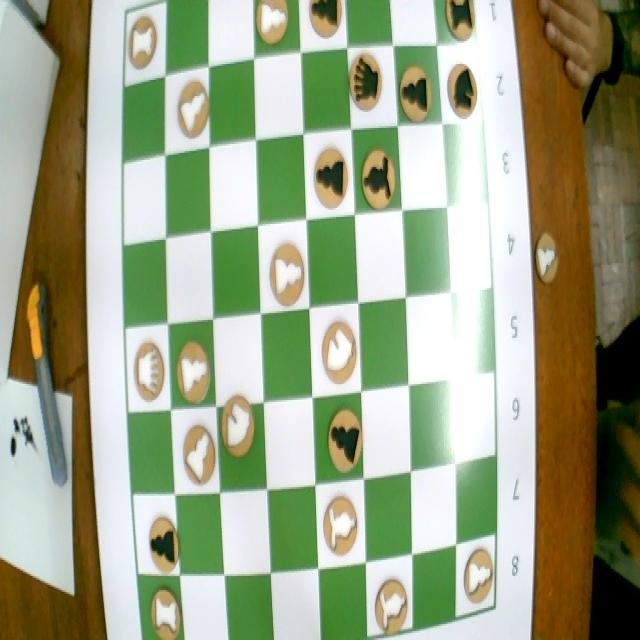chess-pieces: (316, 403, 364, 481), (303, 140, 352, 213), (264, 231, 306, 313), (126, 328, 167, 411), (318, 309, 360, 390), (172, 326, 212, 408), (346, 45, 387, 123), (321, 487, 362, 563), (369, 568, 412, 638), (356, 135, 400, 203), (176, 426, 218, 492), (397, 57, 436, 128), (220, 392, 257, 466), (445, 51, 482, 121), (457, 548, 496, 612), (144, 511, 181, 574), (127, 10, 161, 74), (252, 0, 293, 52), (179, 76, 211, 142), (304, 0, 346, 45), (148, 585, 182, 640), (444, 0, 475, 37)
